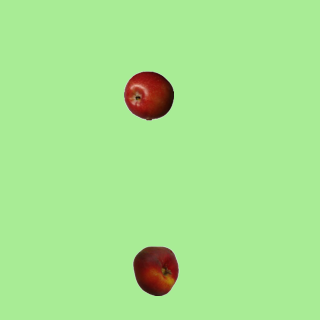Apple Braeburn: (123, 70, 173, 120)
Nectarine Flat: (130, 245, 180, 295)
